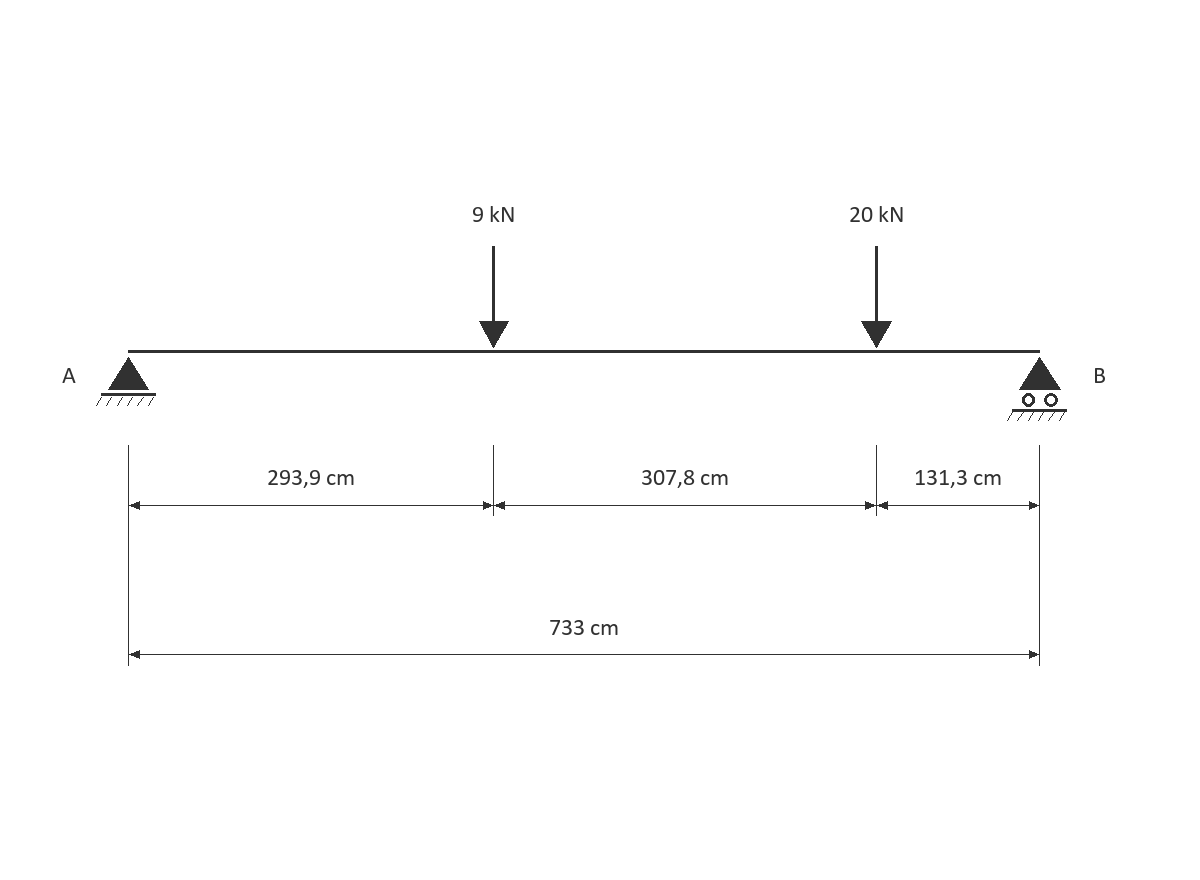pin_support: (96, 357, 156, 406)
point_load: (861, 246, 892, 348), (479, 246, 509, 348)
roller_support: (1007, 357, 1067, 421)
